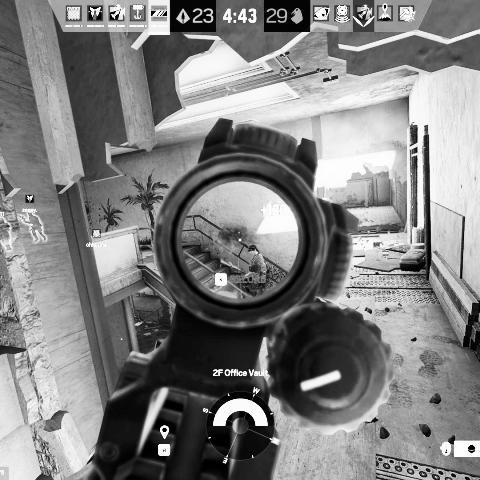Character: (241, 244, 268, 299)
Friend_label: (86, 229, 108, 247), (21, 194, 38, 213)
Head: (248, 244, 258, 256)
